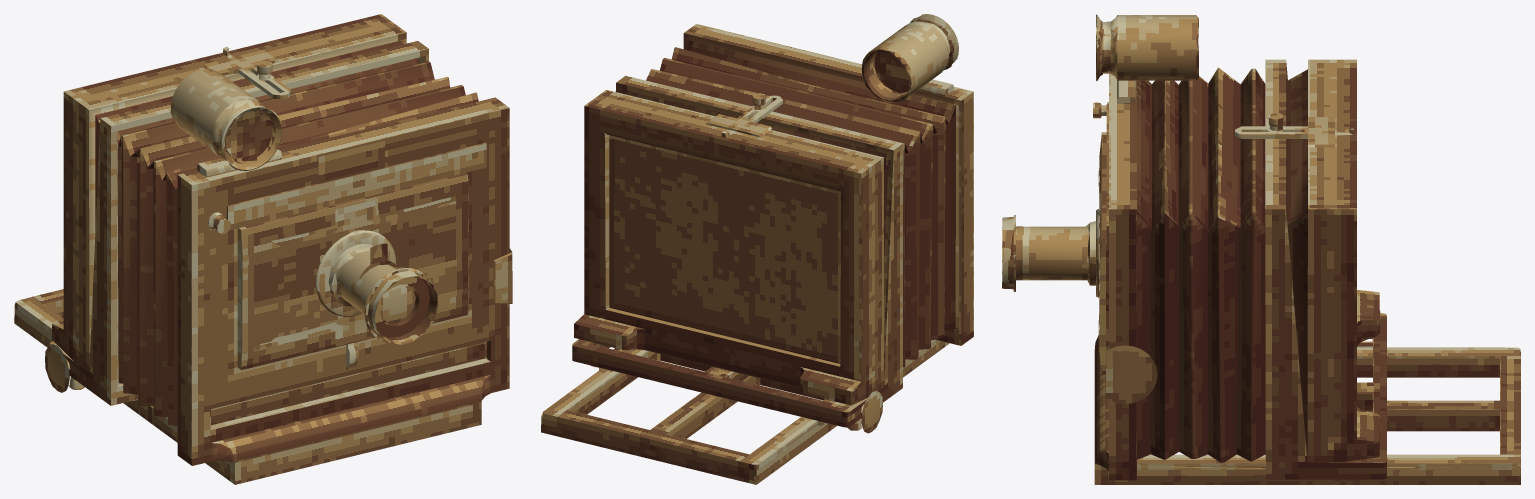
Rendered from camera_vintage.glb.
3 renders of one model, left to right at view 1: azimuth 30°, elevation 25°; view 2: azimuth 150°, elevation 25°; view 3: azimuth 270°, elevation 25°, orthographic. The views are drawn at different scales.
Visible parts, largest first — view 1: mesh; view 2: mesh; view 3: mesh.
Boxes of the visible parts, x1=… form: mesh: x1=14, y1=14, x2=512, y2=484; mesh: x1=541, y1=14, x2=973, y2=484; mesh: x1=1002, y1=14, x2=1520, y2=484.
Bounding box in the file's own units: 0.0928 × 0.1 × 0.1305.
Materials: 1 (1 with a texture image).
